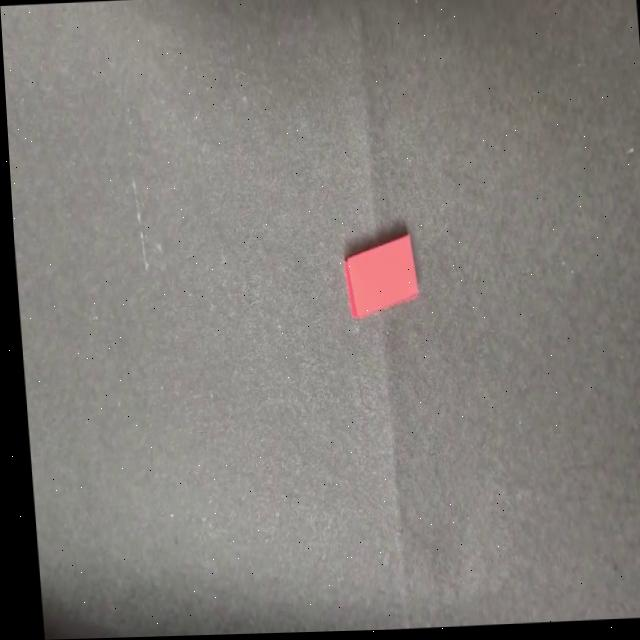red block: (341, 231, 421, 318)
